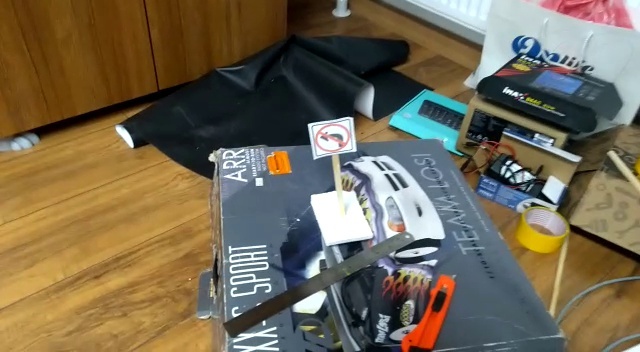sola_donulmez: (312, 121, 354, 155)
